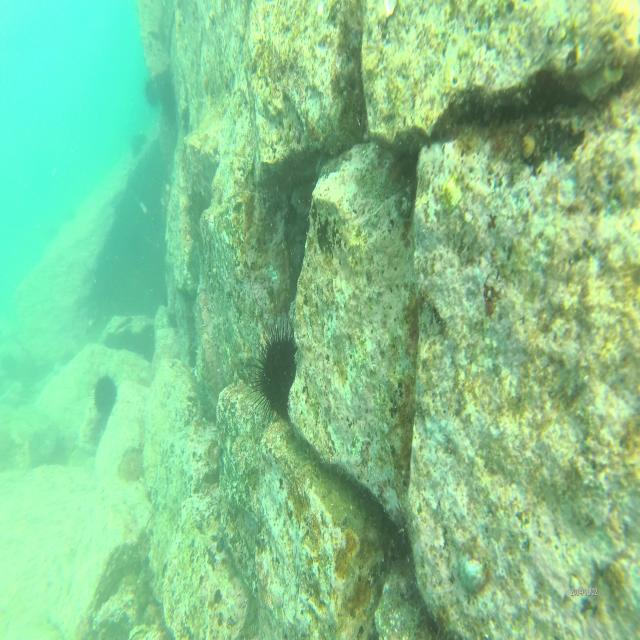echinus: (253, 323, 301, 424), (92, 373, 119, 416), (142, 76, 160, 110), (132, 132, 149, 159)
scallop: (458, 547, 488, 595)
